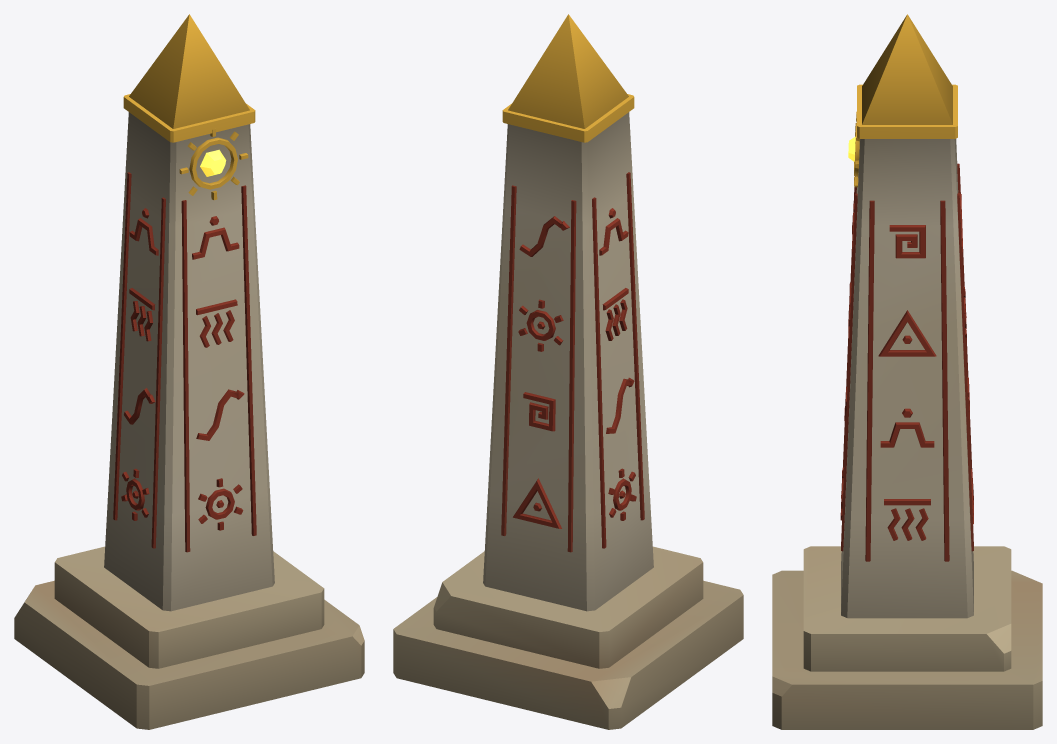
The model's file is obelisk.glb.
3 renders of one model, left to right at view 1: azimuth 30°, elevation 25°; view 2: azimuth 150°, elevation 25°; view 3: azimuth 270°, elevation 25°, orthographic. The views are drawn at different scales.
Parts seen in each view (by area): view 1: obelisk; view 2: obelisk; view 3: obelisk.
Boxes of the visible parts, box(x1,y1,x2,y2) form: obelisk: box(14, 14, 364, 729); obelisk: box(393, 14, 743, 729); obelisk: box(772, 14, 1042, 729).
Bounding box in the file's own units: 1.3 × 3.5 × 1.3.
